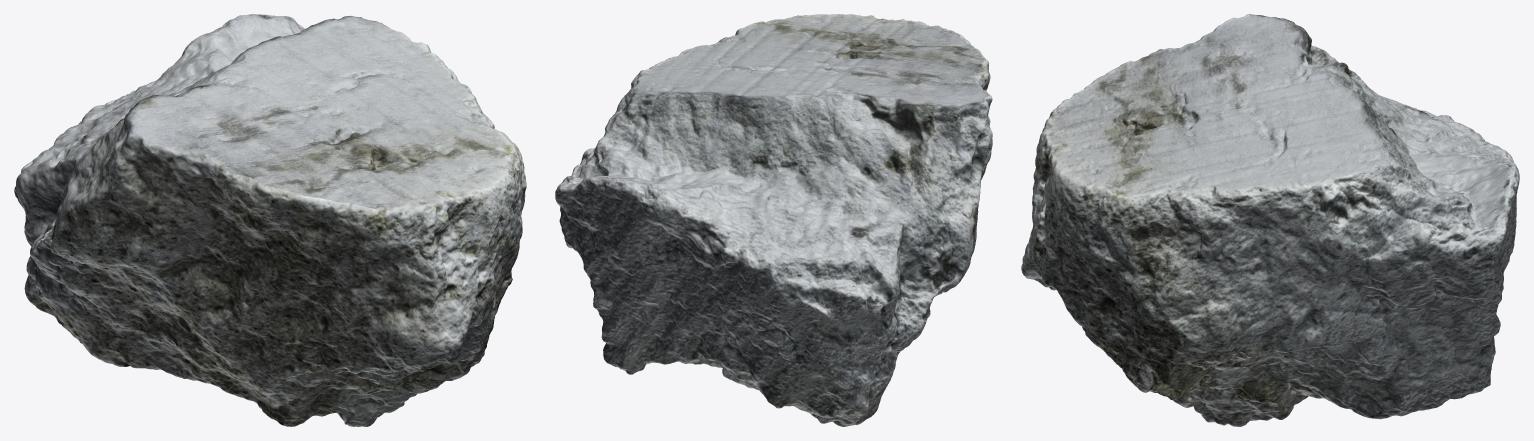
3 views of the same model, side by side, from view 1: azimuth 30°, elevation 25°; view 2: azimuth 150°, elevation 25°; view 3: azimuth 270°, elevation 25° (orthographic). The views are drawn at different scales.
Visible parts, largest first — view 1: Object_3, Object_2; view 2: Object_2, Object_3; view 3: Object_3, Object_2.
Part boxes in pixels (box(x1,y1,x2,y2)): Object_3: box(16, 16, 526, 426); Object_2: box(14, 14, 513, 426); Object_2: box(555, 69, 992, 426); Object_3: box(561, 14, 990, 424); Object_3: box(1021, 17, 1518, 422); Object_2: box(1093, 14, 1519, 426).
Size of the model in its own units: 0.0527 by 0.0452 by 0.0645.
Materials: 1 (1 with a texture image).
